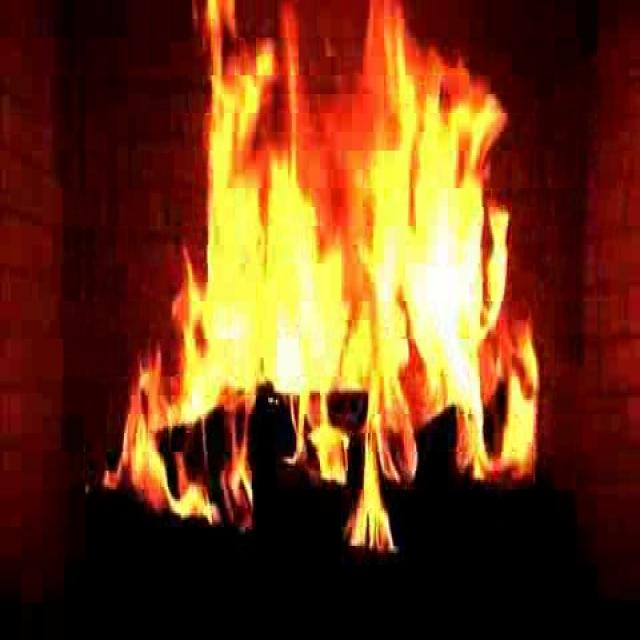fire: (160, 32, 510, 530)
